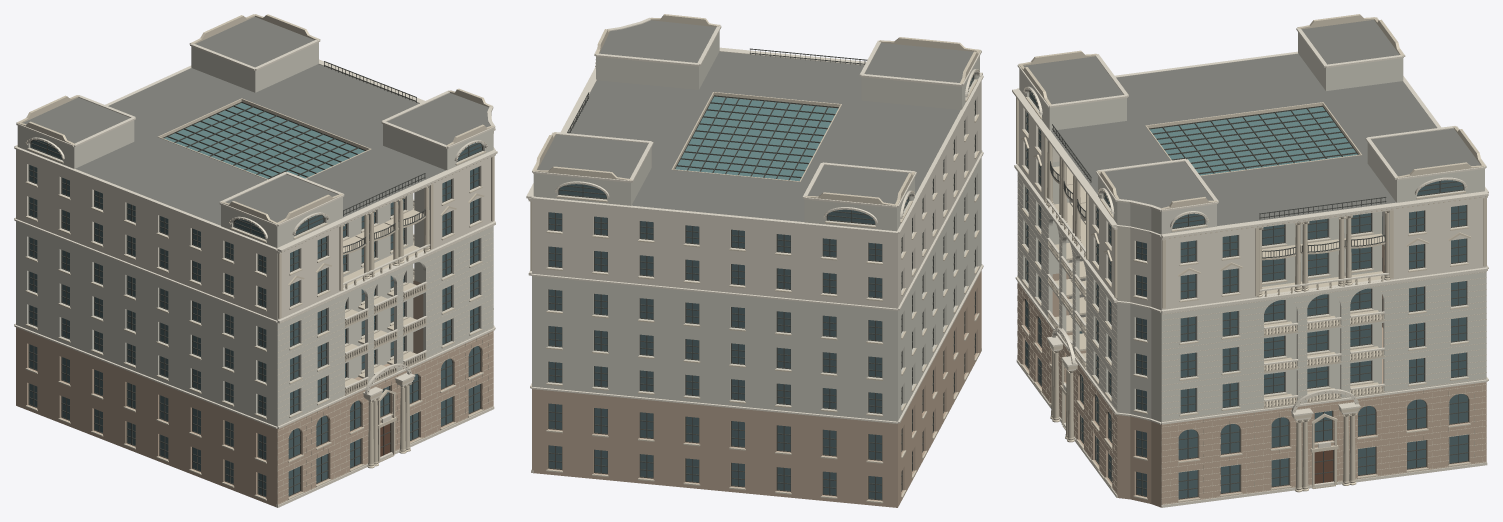
File: huangpu-asia-building-web.glb
3 renders of one model, left to right at view 1: azimuth 30°, elevation 25°; view 2: azimuth 150°, elevation 25°; view 3: azimuth 270°, elevation 25°, orthographic. The views are drawn at different scales.
Visible parts, largest first — view 1: 亚细亚大楼（外滩1号双街立面与东南转角）; view 2: 亚细亚大楼（外滩1号双街立面与东南转角）; view 3: 亚细亚大楼（外滩1号双街立面与东南转角）.
Boxes of the visible parts, <box> form: 亚细亚大楼（外滩1号双街立面与东南转角）: <box>14,14,497,507</box>; 亚细亚大楼（外滩1号双街立面与东南转角）: <box>526,14,983,507</box>; 亚细亚大楼（外滩1号双街立面与东南转角）: <box>1012,14,1488,507</box>.
Bounding box in the file's own units: 48.16 × 34.93 × 49.58.
